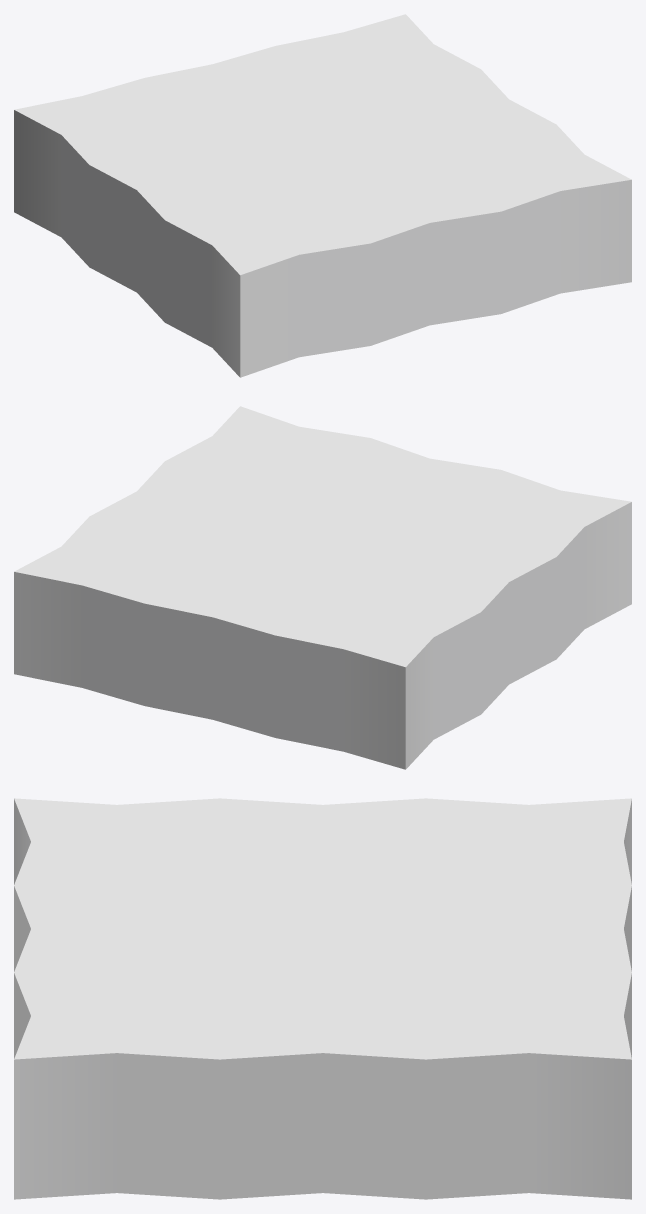
File: jaggeredTile-09a_col.fbx
The picture shows the model from 3 angles, top to bottom: view 1: azimuth 30°, elevation 25°; view 2: azimuth 150°, elevation 25°; view 3: azimuth 270°, elevation 25°; orthographic projection. The views are drawn at different scales.
Visible parts, largest first — view 1: jaggeredTile-09a.col; view 2: jaggeredTile-09a.col; view 3: jaggeredTile-09a.col.
Boxes of the visible parts, box(x1,y1,x2,y2) form: jaggeredTile-09a.col: box(14, 14, 631, 377); jaggeredTile-09a.col: box(14, 406, 631, 769); jaggeredTile-09a.col: box(14, 798, 631, 1199).
Size of the model in its own units: 2 by 0.5 by 2.
1 material, 1 textured.
